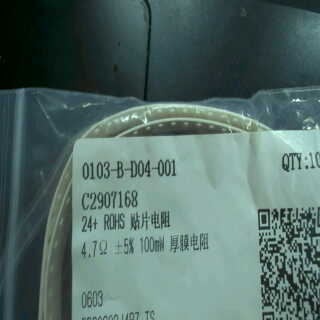4.7R: (78, 234, 109, 266)
